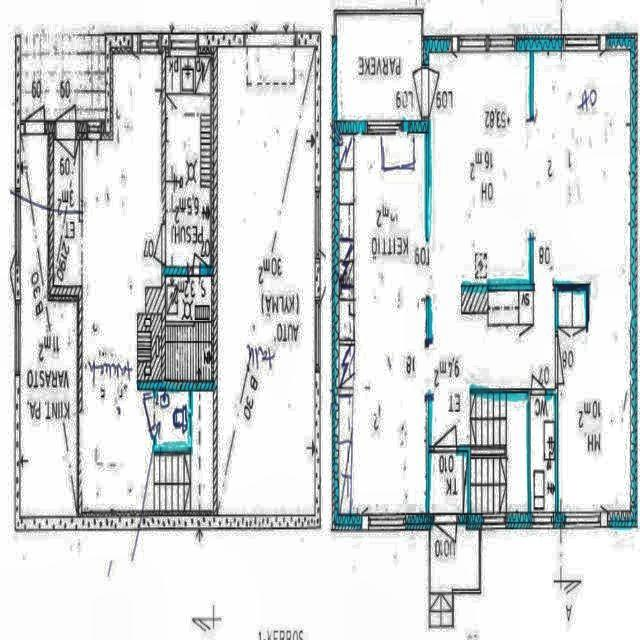room: (218, 49, 314, 514), (339, 134, 426, 513), (19, 134, 78, 517), (166, 59, 210, 266), (530, 395, 555, 512)
